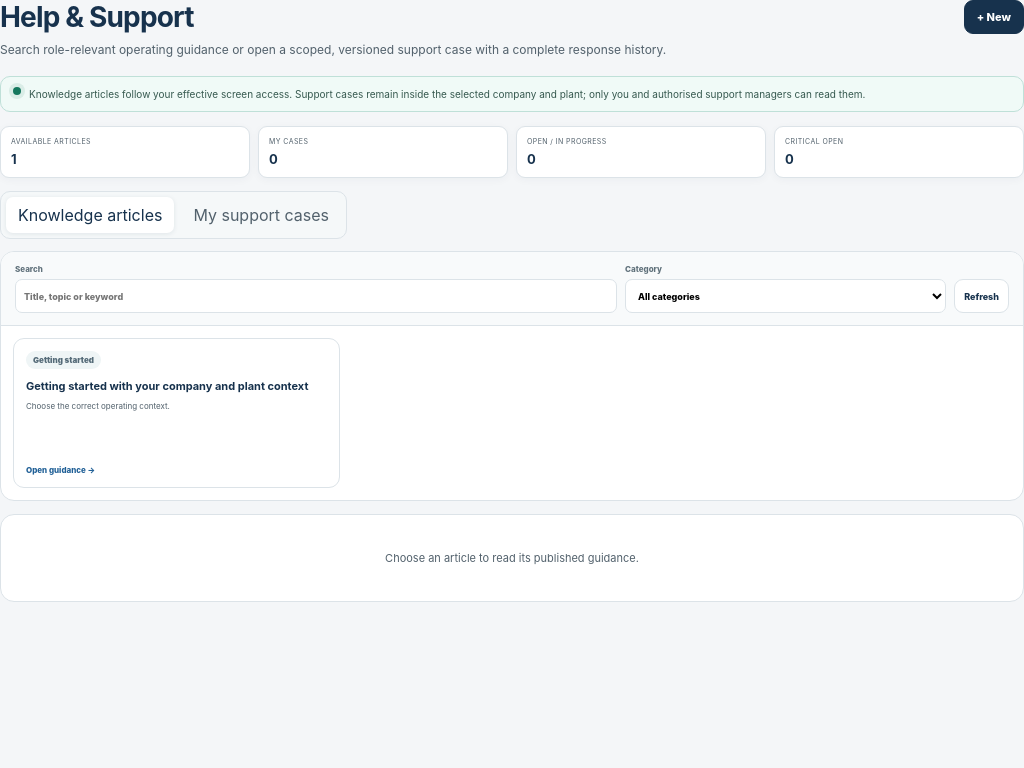
Test case: Help and support workspace › opens a scoped support case with only screens available to the user
The width and height of the screenshot is (1024, 768).
Expected: the text "Getting started with your company and plant context" is shown, [26,379,308,394]
Click the button "+ New" at point(994, 17), box [964,0,1023,34]
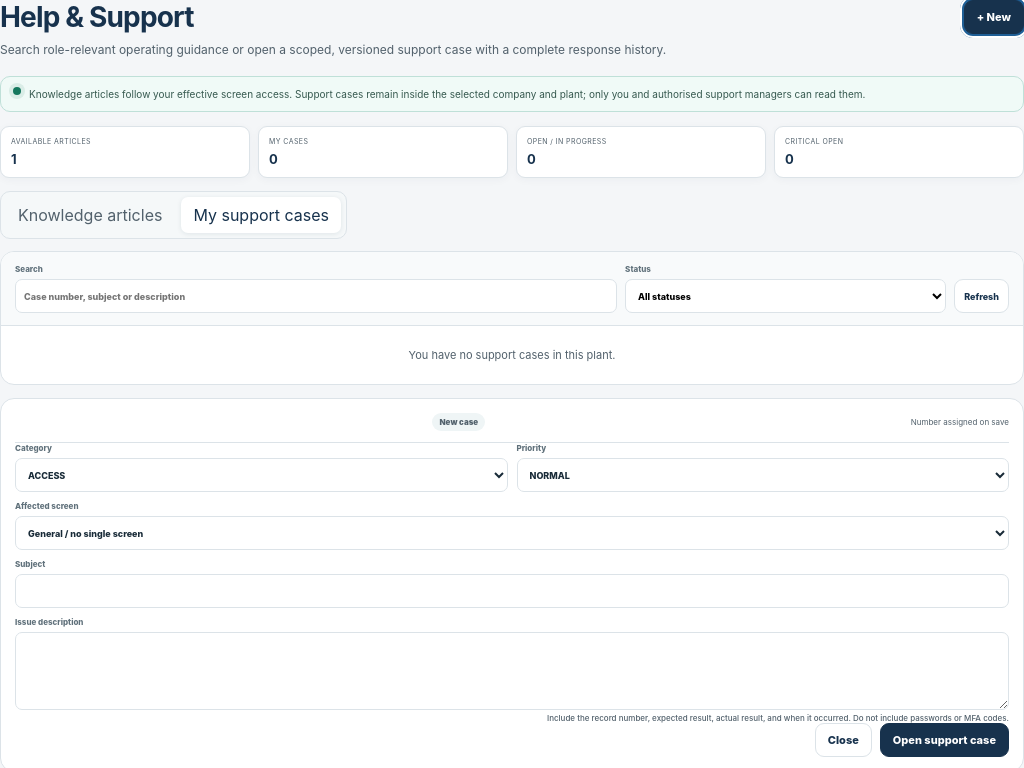
Expected: the dropdown labelled "Affected screen" does not show "BI-REP", [15,516,1009,550]
Select "WORKFLOW" in the dropdown named "Support case category" at point(261, 475), box [15,458,508,492]
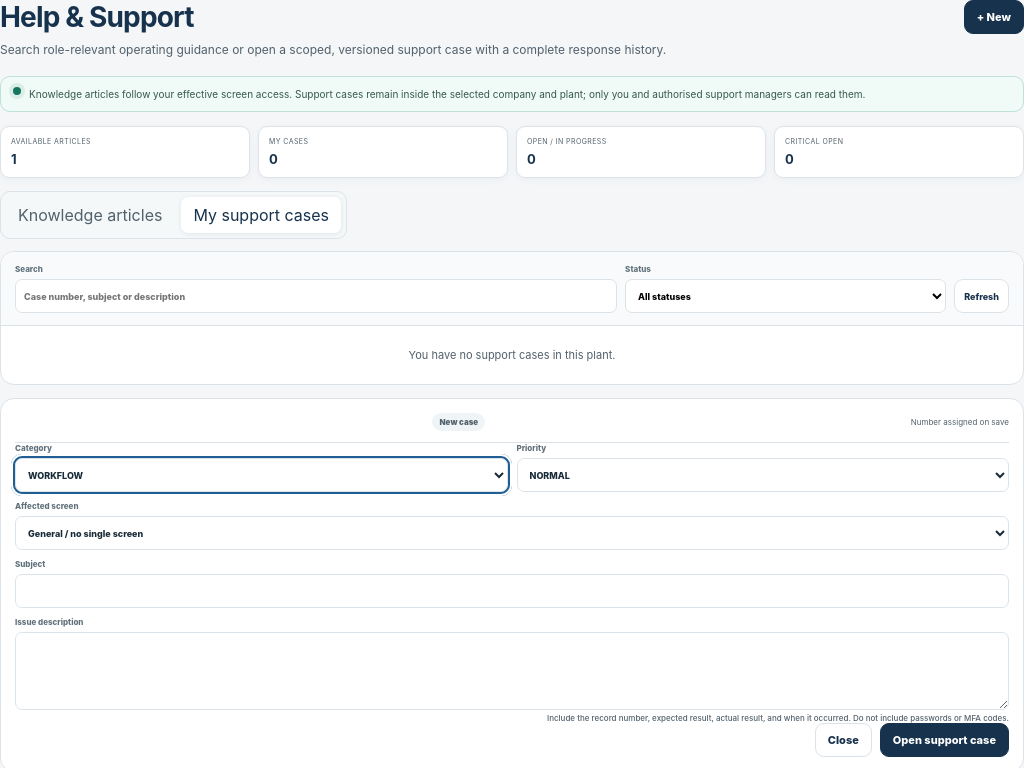
Select "CRM-ORDER" in the dropdown labelled "Affected screen" at point(512, 533), box [15,516,1009,550]
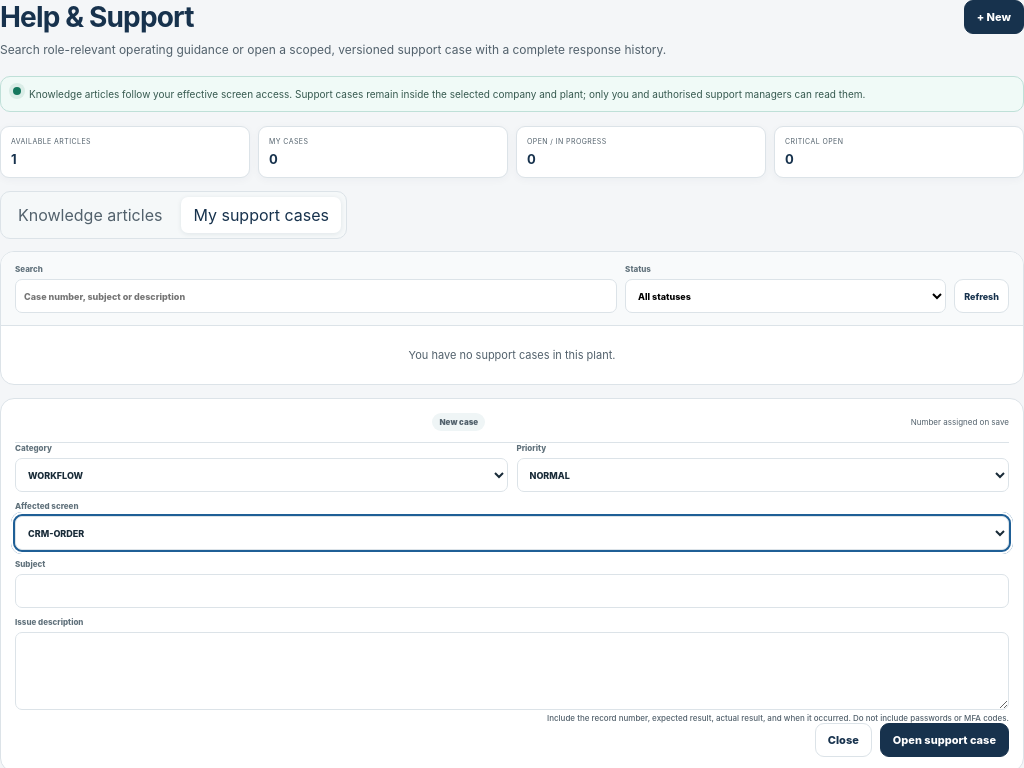
Type "Order allocation question" into the field named "Support case subject" at point(512, 591), box [15,574,1009,608]
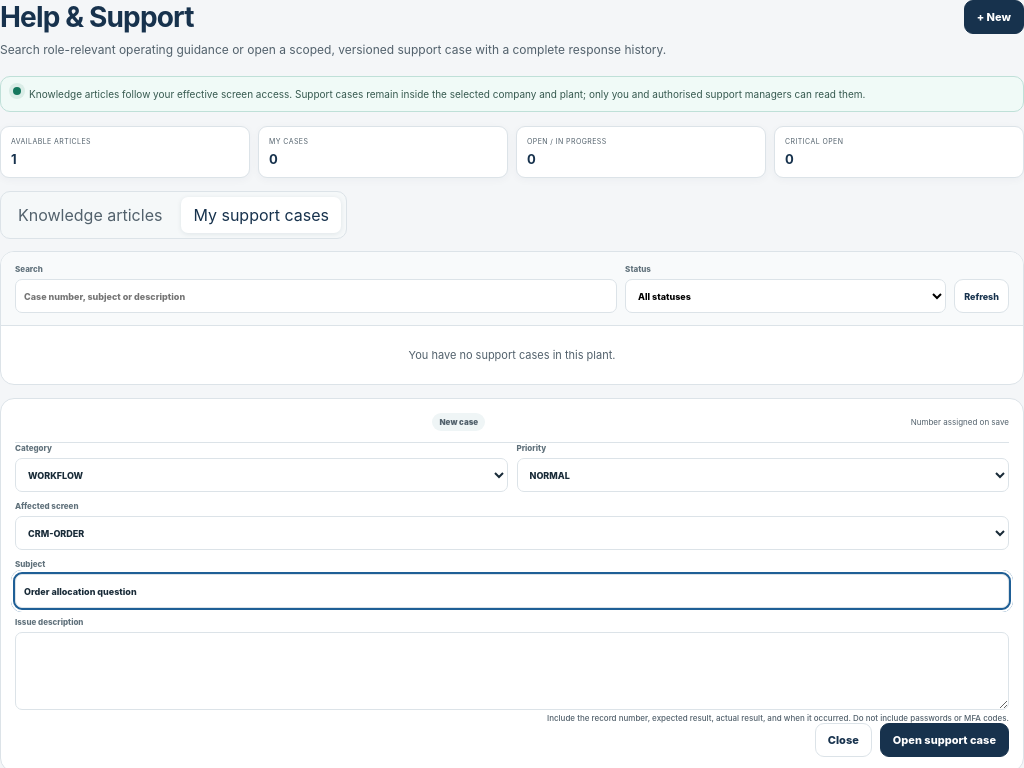
Type "The confirmed order is visible but no picking allocation has appeared." into the text box named "Support case description" at point(512, 671), box [15,632,1009,710]
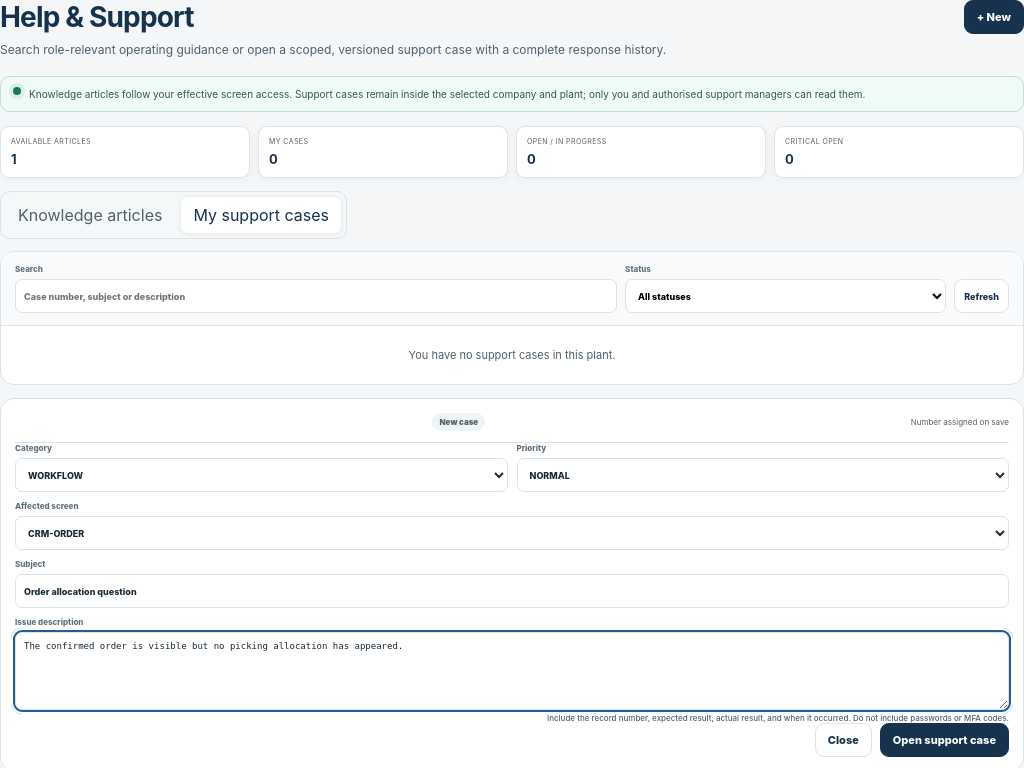
Click the button "Open support case" at point(944, 740), box [880,723,1009,757]
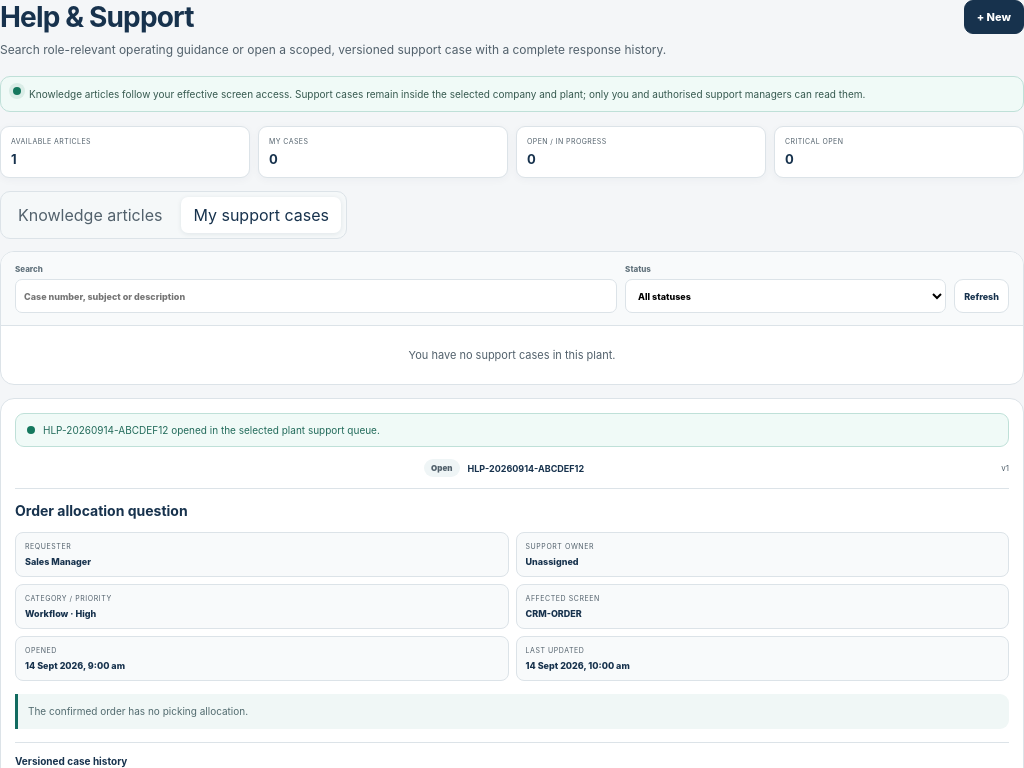
Result: the text "HLP-20260914-ABCDEF12 opened in the selected plant support queue." is shown at [15,413,1009,447]
